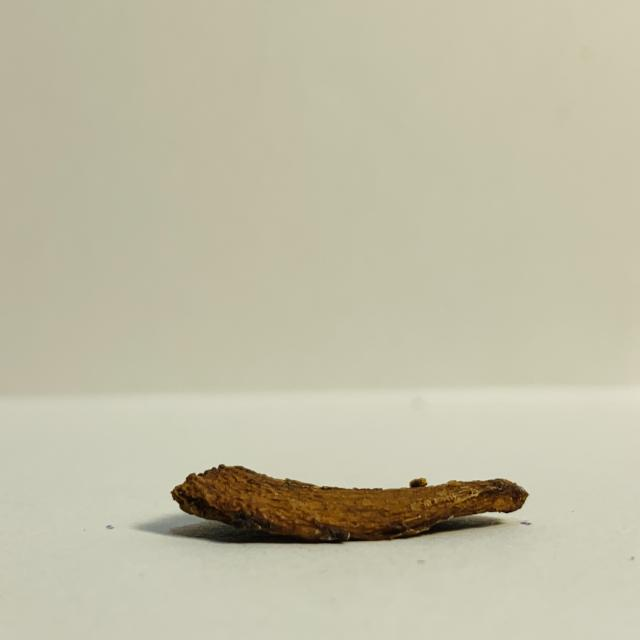Flat_cocoabeans: (97, 422, 609, 574)
